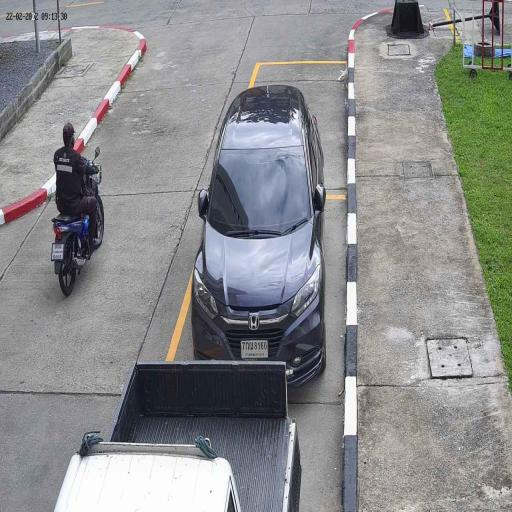car: (190, 88, 328, 386), (52, 360, 304, 512)
motorcycle: (52, 161, 106, 296)
